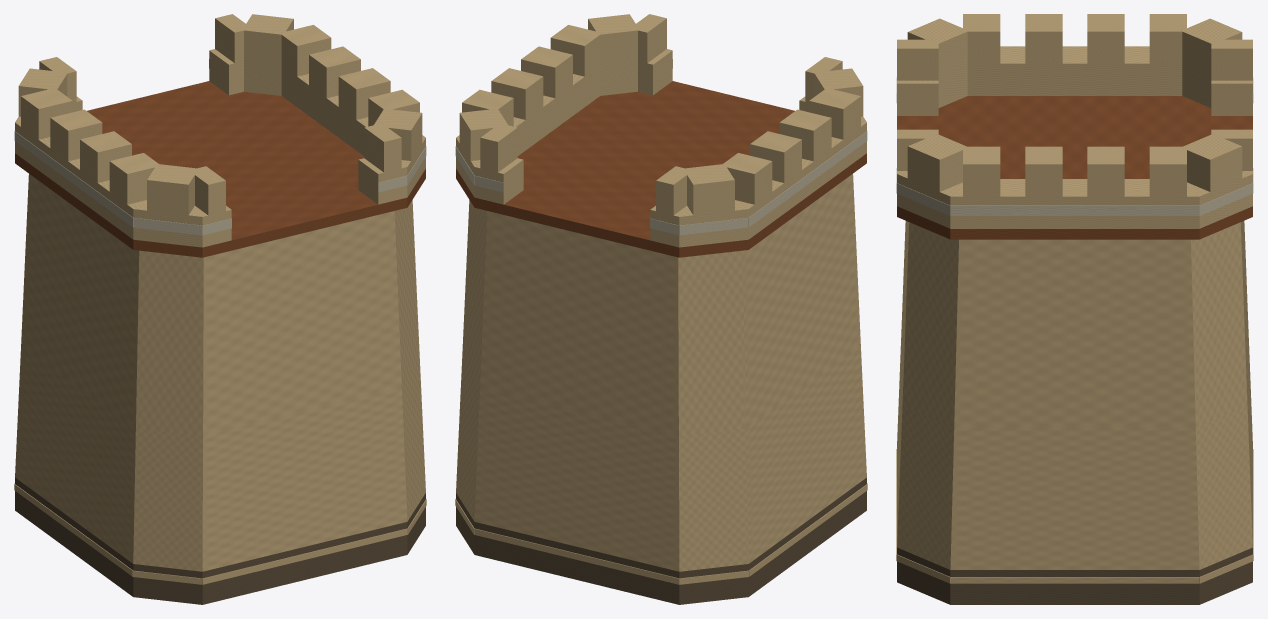
File: Berber_Bastion_Age3_thru.fbx
3 renders of one model, left to right at view 1: azimuth 30°, elevation 25°; view 2: azimuth 150°, elevation 25°; view 3: azimuth 270°, elevation 25°, orthographic. The views are drawn at different scales.
Visible parts, largest first — view 1: thru_battered_upper, thru_battered_lower, thru_continuous_walk_floor, thru_stone_foot, thru_guard_6_0, thru_guard_2_0, thru_guard_7_0, thru_foundation_bond_0, thru_merlon_7_0_0, thru_guard_0_1, thru_owner_band_6_0, thru_guard_4_0 (+28 smaller); view 2: thru_battered_upper, thru_battered_lower, thru_continuous_walk_floor, thru_stone_foot, thru_guard_6_0, thru_guard_2_0, thru_guard_5_0, thru_foundation_bond_4, thru_guard_4_0, thru_merlon_5_0_0, thru_owner_band_6_0, thru_guard_0_1 (+28 smaller); view 3: thru_battered_upper, thru_battered_lower, thru_continuous_walk_floor, thru_stone_foot, thru_guard_6_0, thru_guard_2_0, thru_owner_band_2_0, thru_merlon_3_0_0, thru_merlon_1_0_0, thru_foundation_bond_2, thru_guard_0_0, thru_guard_4_1 (+31 smaller).
Boxes of the visible parts, box(x1,y1,x2,y2) form: thru_battered_upper: box(21, 174, 419, 436); thru_battered_lower: box(15, 345, 425, 571); thru_continuous_walk_floor: box(15, 81, 425, 257); thru_stone_foot: box(15, 477, 425, 604); thru_guard_6_0: box(15, 122, 146, 239); thru_guard_2_0: box(281, 65, 425, 155); thru_guard_7_0: box(133, 200, 204, 247); thru_foundation_bond_0: box(202, 528, 407, 584); thru_merlon_7_0_0: box(147, 176, 194, 215); thru_guard_0_1: box(358, 158, 407, 204); thru_owner_band_6_0: box(14, 131, 133, 227); thru_guard_4_0: box(209, 49, 243, 95); thru_battered_upper: box(462, 174, 860, 436); thru_battered_lower: box(456, 345, 866, 571); thru_continuous_walk_floor: box(456, 81, 866, 257); thru_stone_foot: box(456, 477, 866, 604); thru_guard_6_0: box(735, 121, 866, 239); thru_guard_2_0: box(456, 65, 600, 155); thru_guard_5_0: box(678, 200, 748, 247); thru_foundation_bond_4: box(474, 528, 679, 584); thru_guard_4_0: box(474, 158, 523, 204); thru_merlon_5_0_0: box(687, 177, 734, 215); thru_owner_band_6_0: box(748, 131, 867, 227); thru_guard_0_1: box(638, 49, 672, 95); thru_battered_upper: box(902, 221, 1247, 427); thru_battered_lower: box(897, 312, 1252, 569); thru_continuous_walk_floor: box(897, 96, 1252, 239); thru_stone_foot: box(897, 547, 1252, 604); thru_guard_6_0: box(967, 46, 1182, 95); thru_guard_2_0: box(950, 179, 1199, 228); thru_owner_band_2_0: box(950, 205, 1199, 215); thru_merlon_3_0_0: box(1187, 147, 1242, 191); thru_merlon_1_0_0: box(907, 148, 962, 191); thru_foundation_bond_2: box(950, 577, 1199, 583); thru_guard_0_0: box(897, 80, 938, 115); thru_guard_4_1: box(1211, 80, 1252, 115).
Size of the model in its own units: 603 by 820 by 603.
4 materials, 4 textured.
